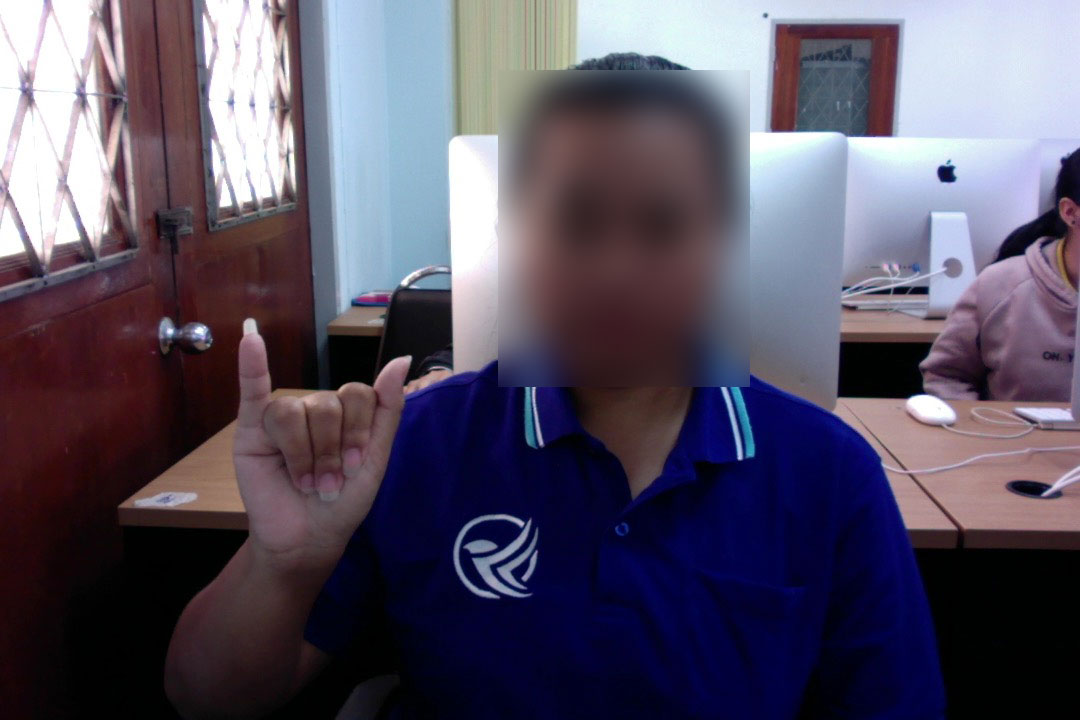yor: (229, 309, 418, 571)
